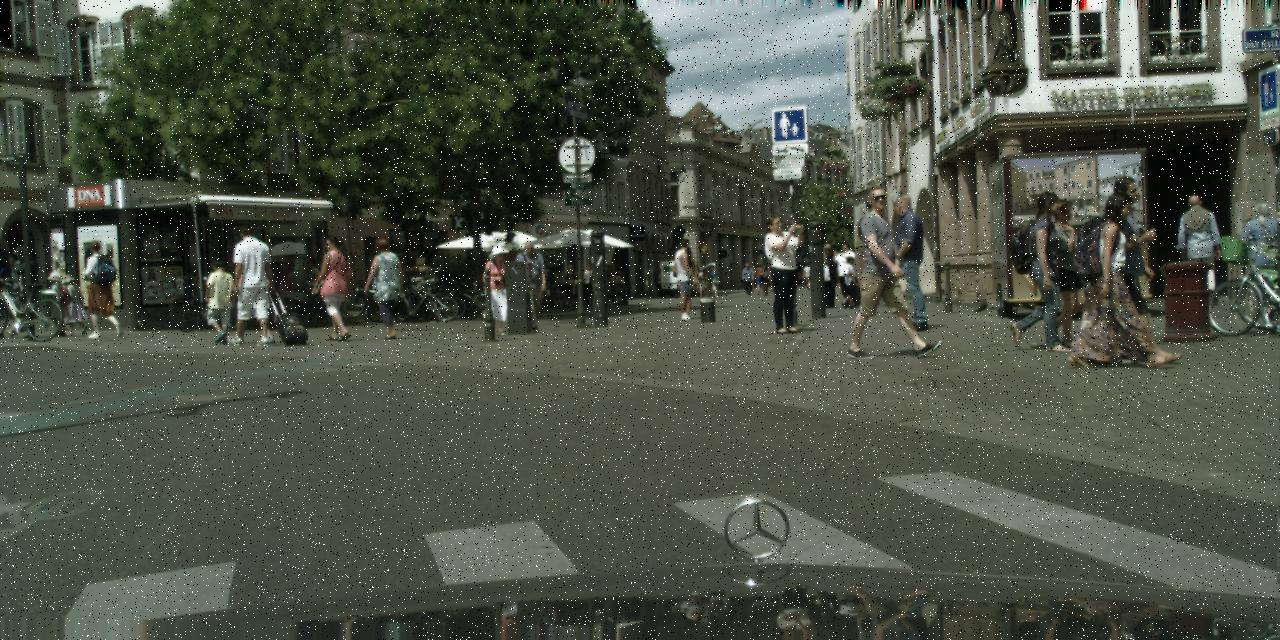ped: (1084, 175, 1160, 364), (1084, 191, 1156, 367), (850, 186, 919, 356), (1010, 192, 1075, 351), (1032, 198, 1092, 342), (884, 194, 940, 330), (224, 225, 272, 344), (756, 215, 804, 333), (1177, 195, 1221, 302), (1240, 202, 1279, 317), (313, 236, 356, 340), (365, 236, 407, 339), (82, 239, 121, 337), (6, 245, 44, 339), (477, 243, 513, 333), (514, 240, 549, 330), (204, 260, 238, 344), (668, 238, 701, 320), (0, 254, 32, 332), (673, 246, 701, 315), (45, 270, 72, 336), (299, 257, 325, 322), (815, 243, 841, 306), (836, 243, 860, 306), (59, 274, 84, 334), (841, 256, 858, 310), (540, 264, 558, 307), (581, 265, 595, 301), (740, 262, 754, 296), (750, 264, 764, 294), (758, 265, 771, 296), (651, 265, 663, 297), (698, 266, 710, 296), (709, 266, 720, 297), (802, 263, 812, 289), (766, 265, 776, 291), (610, 272, 624, 284), (752, 281, 754, 292)
